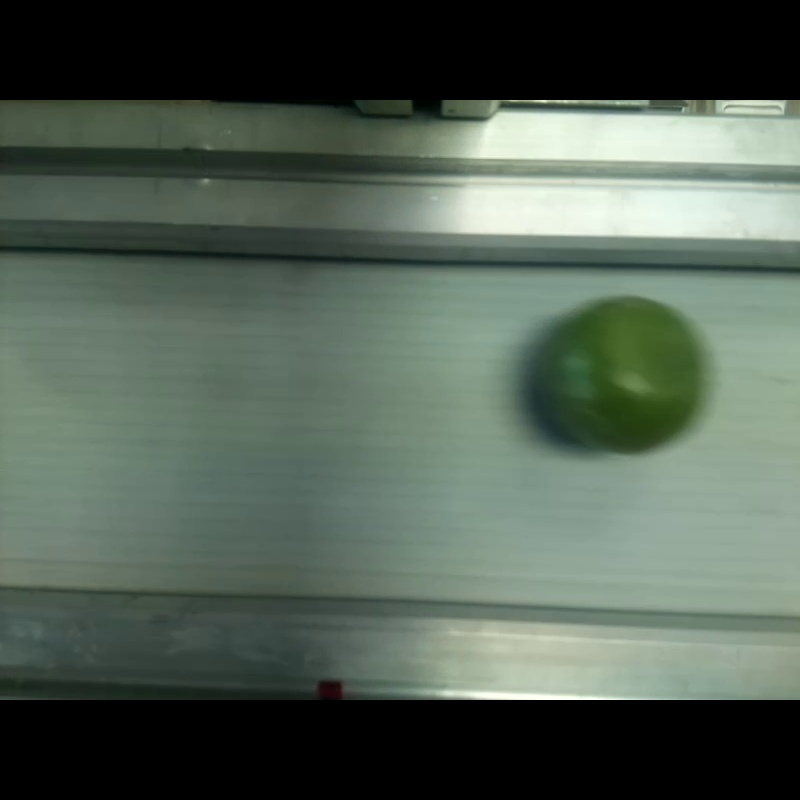lime: (544, 297, 705, 450)
